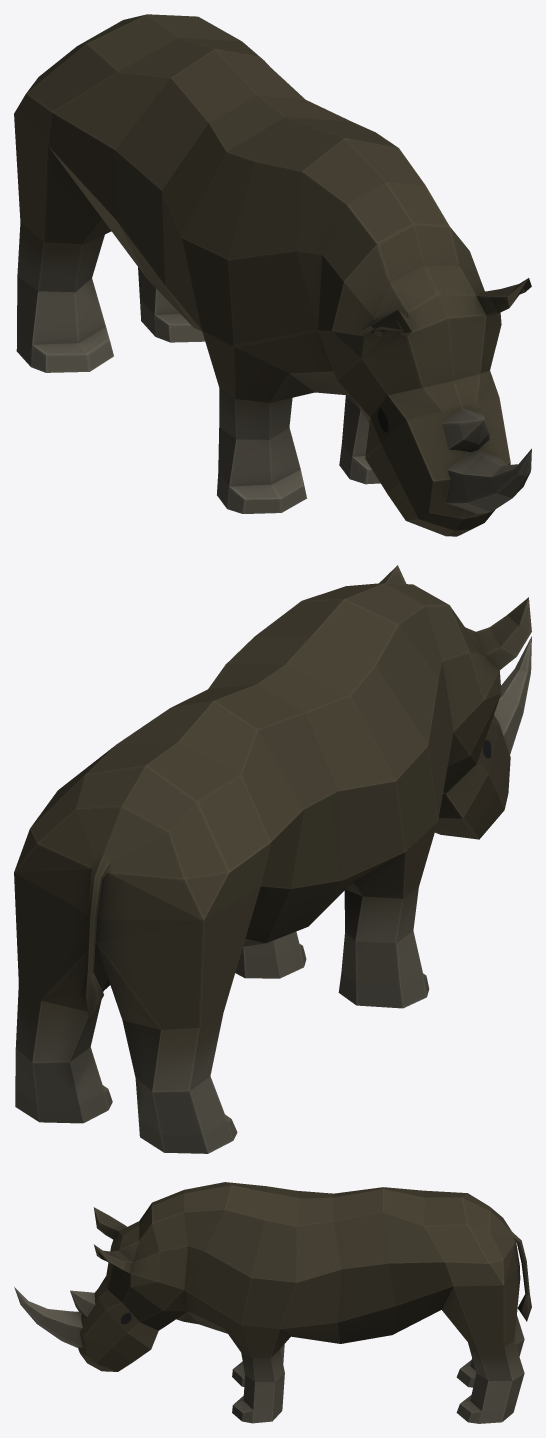
Rendered from Rhinoceros.obj.
3 views of the same model, one above another, from view 1: azimuth 30°, elevation 25°; view 2: azimuth 150°, elevation 25°; view 3: azimuth 270°, elevation 25° (orthographic). The views are drawn at different scales.
Visible parts, largest first — view 1: Rhinoceros_mesh; view 2: Rhinoceros_mesh; view 3: Rhinoceros_mesh.
Part boxes in pixels (x1,y1,x2,y2): Rhinoceros_mesh: (14, 14, 531, 536); Rhinoceros_mesh: (14, 565, 531, 1153); Rhinoceros_mesh: (14, 1182, 531, 1423).
Size of the model in its own units: 6.89 by 10.91 by 24.43.
Materials: 1 (1 with a texture image).
